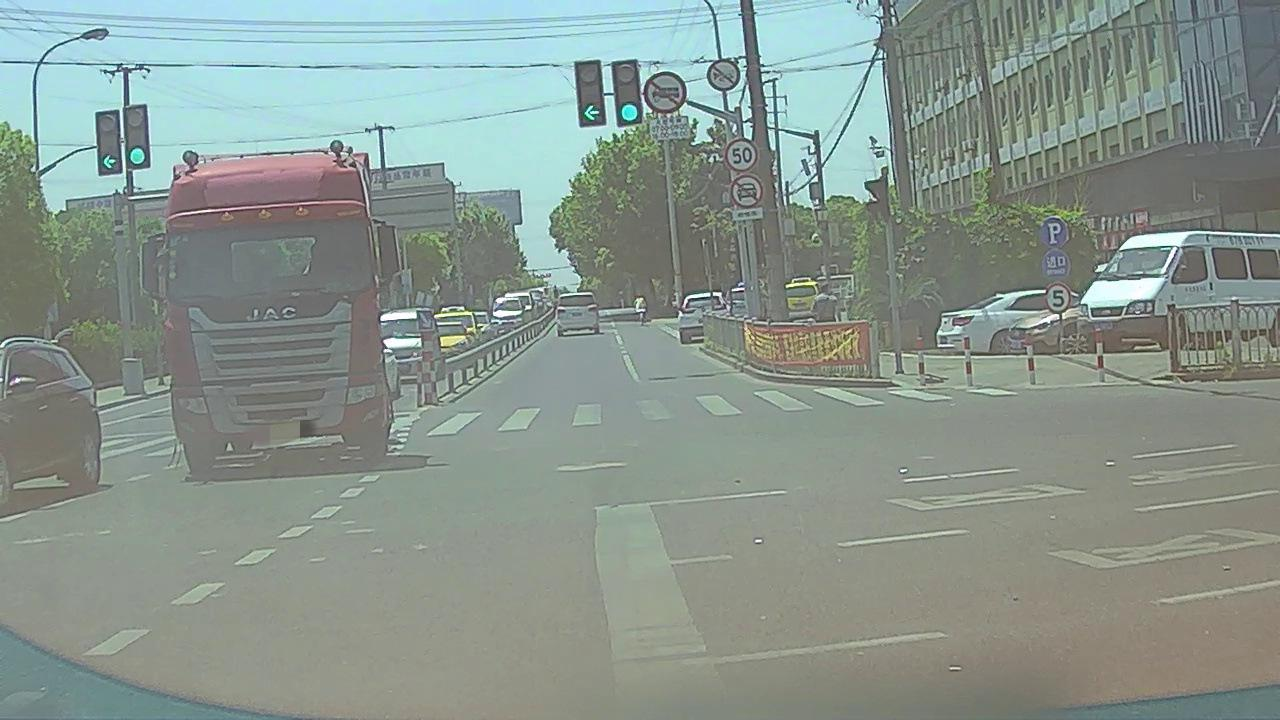traffic_light: (577, 61, 603, 126), (615, 60, 642, 122), (124, 107, 150, 168), (96, 112, 121, 173)
